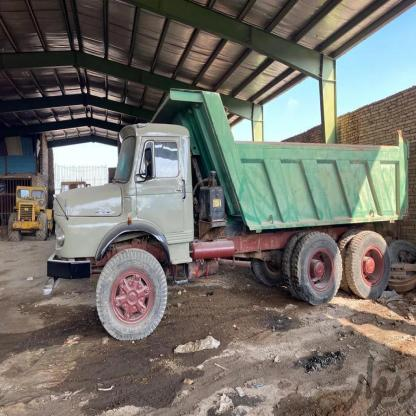Truck: (53, 90, 416, 330), (5, 184, 54, 240)
